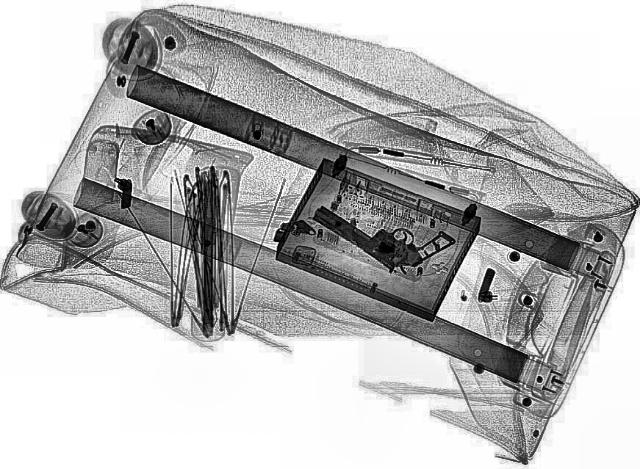Gun: (304, 178, 456, 278)
